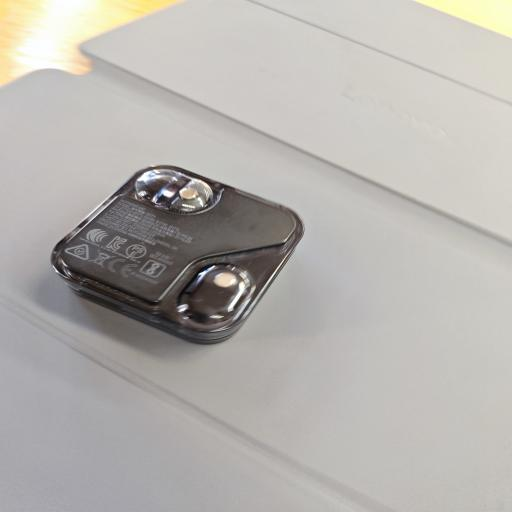CASTI: (44, 159, 310, 349)
